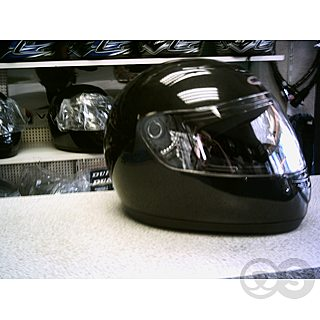helmet: (114, 66, 308, 226)
